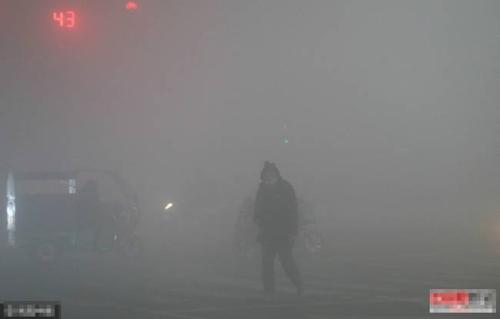person: (253, 160, 298, 291)
